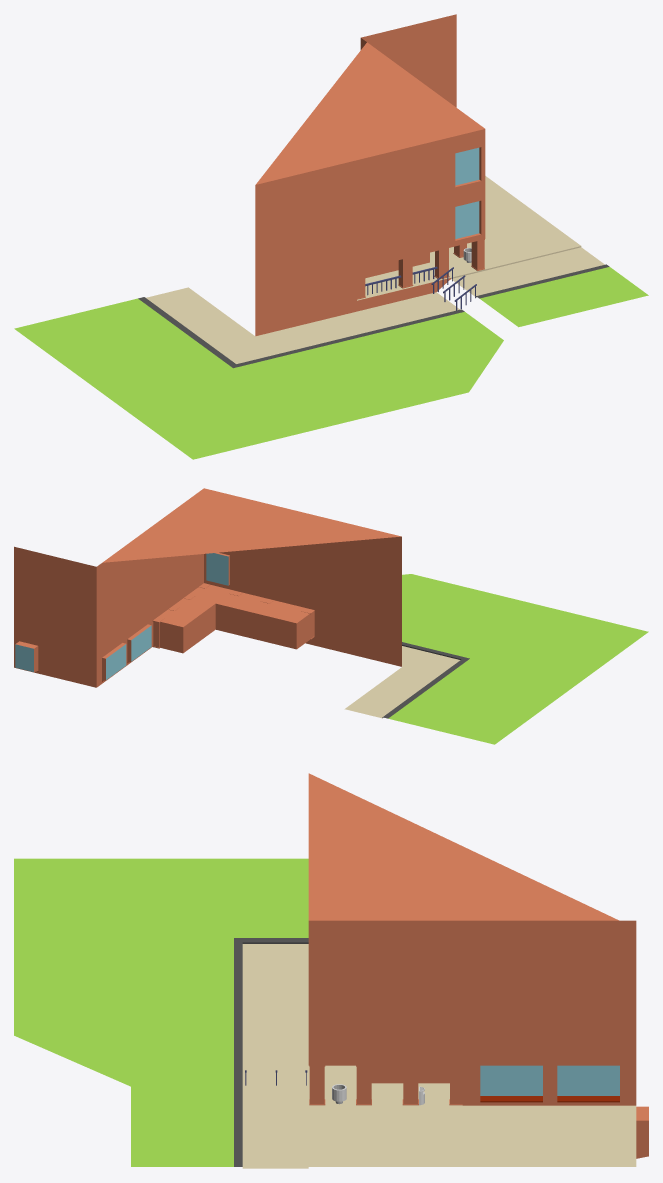
Rendered from ucm.fbx.
3 renders of one model, top to bottom at view 1: azimuth 30°, elevation 25°; view 2: azimuth 150°, elevation 25°; view 3: azimuth 270°, elevation 25°, orthographic. The views are drawn at different scales.
Visible parts, largest first — view 1: Plane; view 2: Plane; view 3: Plane.
Part boxes in pixels (x1,y1,x2,y2): Plane: (14,14,648,459); Plane: (14,488,648,744); Plane: (14,773,648,1168).
Size of the model in its own units: 6909 by 2022 by 5775.
